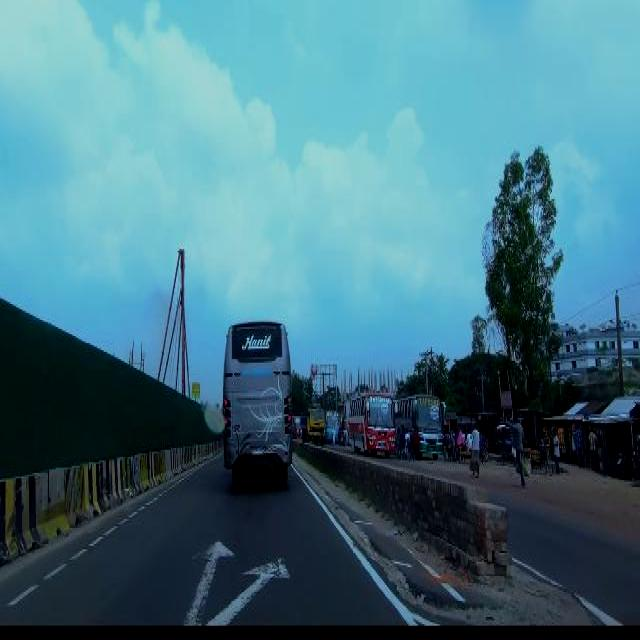BUS: (222, 319, 294, 492)
